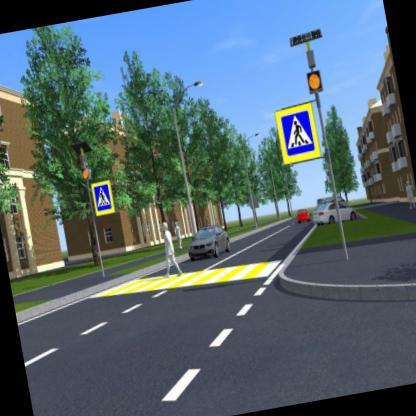road_sign: (275, 102, 322, 164), (91, 181, 115, 215)
traffic light: (307, 71, 324, 94)
